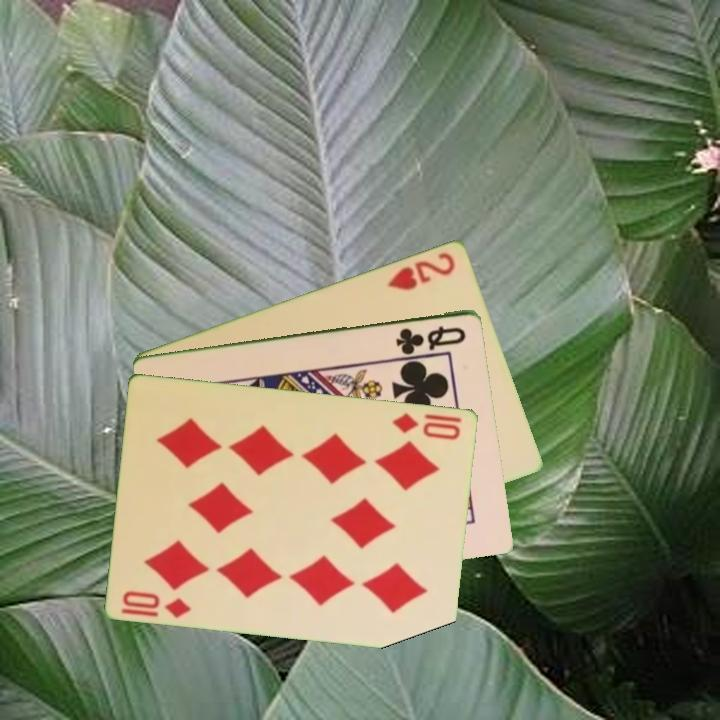10d: (118, 586, 194, 621), (389, 409, 465, 442)
2h: (384, 248, 458, 293)
Qc: (392, 321, 469, 356)
